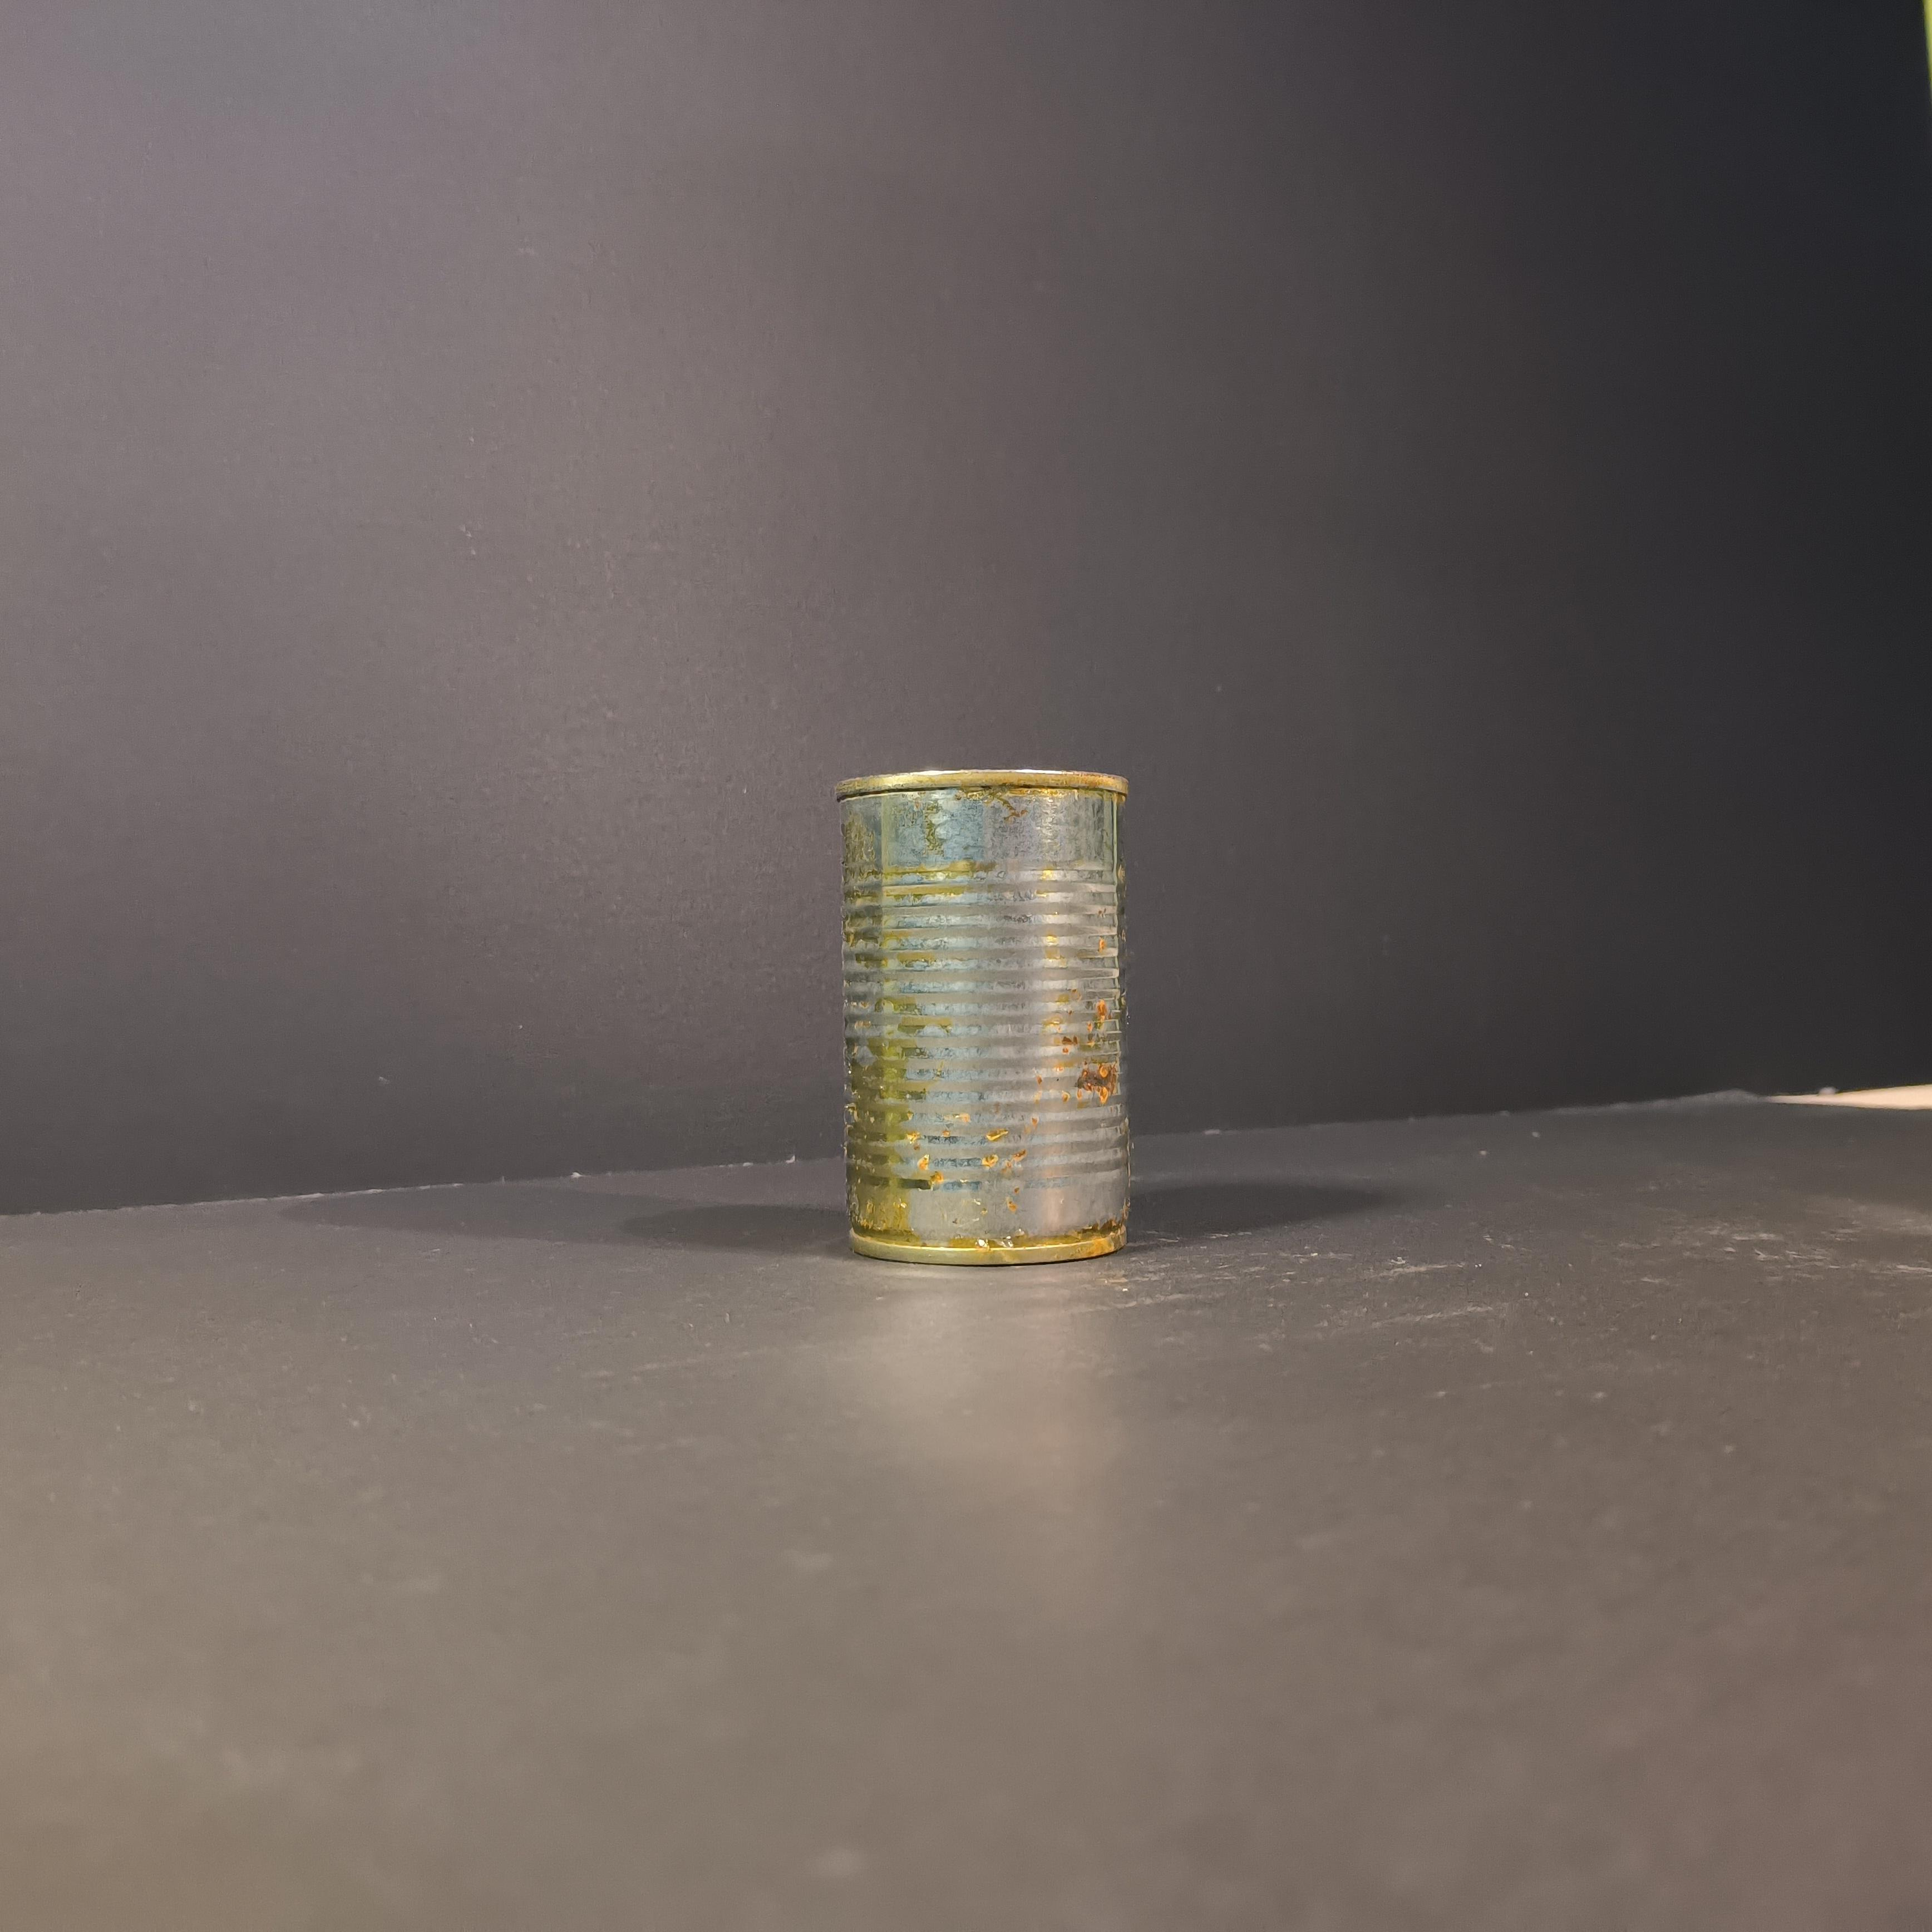Rusted: (816, 748, 1148, 1288)
